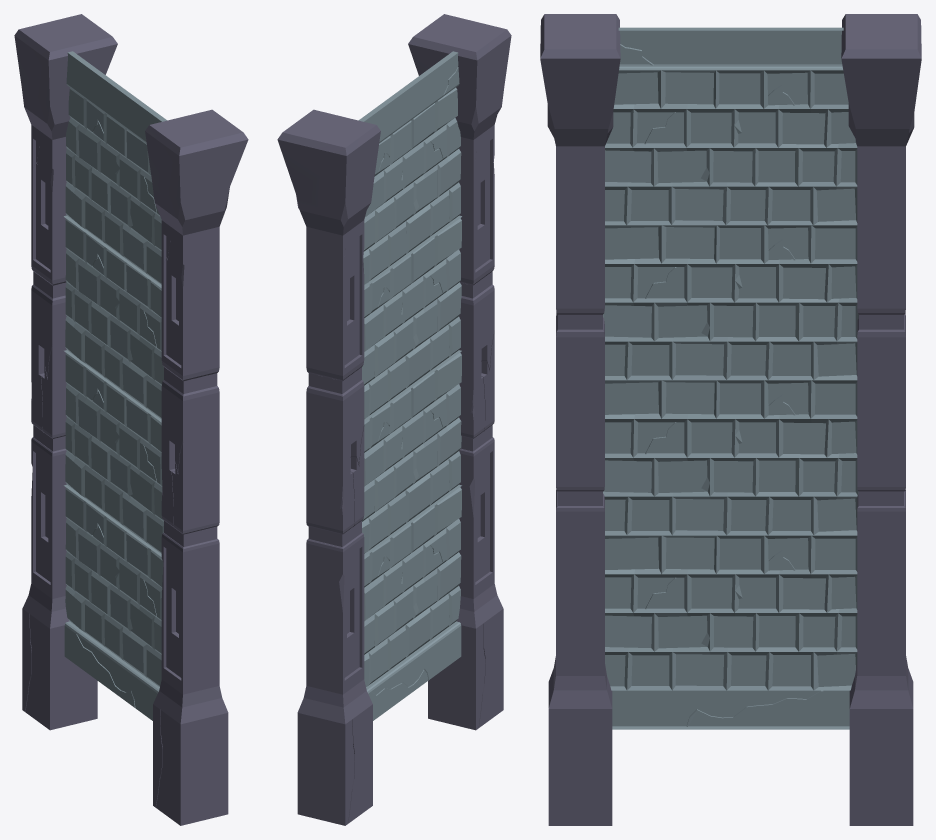
The model's file is wallswithpillars.fbx.
3 renders of one model, left to right at view 1: azimuth 30°, elevation 25°; view 2: azimuth 150°, elevation 25°; view 3: azimuth 270°, elevation 25°, orthographic. The views are drawn at different scales.
Visible parts, largest first — view 1: Cube.002, Cube.001, Plane, Plane.023, Plane.020, Plane.014; view 2: Cube.001, Cube.002, Plane, Plane.023, Plane.020, Plane.014; view 3: Plane, Plane.023, Cube.001, Cube.002, Plane.014, Plane.020.
Boxes of the visible parts, x1,y1,x2,y2 form: Cube.002: [145, 109, 248, 825]; Cube.001: [14, 14, 117, 730]; Plane: [64, 487, 163, 720]; Plane.023: [64, 51, 167, 287]; Plane.020: [64, 350, 163, 556]; Plane.014: [64, 215, 163, 418]; Cube.001: [277, 109, 380, 825]; Cube.002: [408, 14, 511, 730]; Plane: [364, 487, 461, 720]; Plane.023: [358, 51, 461, 287]; Plane.020: [362, 350, 461, 556]; Plane.014: [362, 215, 461, 418]; Plane: [605, 535, 857, 729]; Plane.023: [605, 27, 857, 225]; Cube.001: [841, 14, 921, 825]; Cube.002: [540, 14, 620, 825]; Plane.014: [603, 225, 858, 380]; Plane.020: [603, 380, 858, 535].
Size of the model in its own units: 19.49 by 184 by 80.97.
